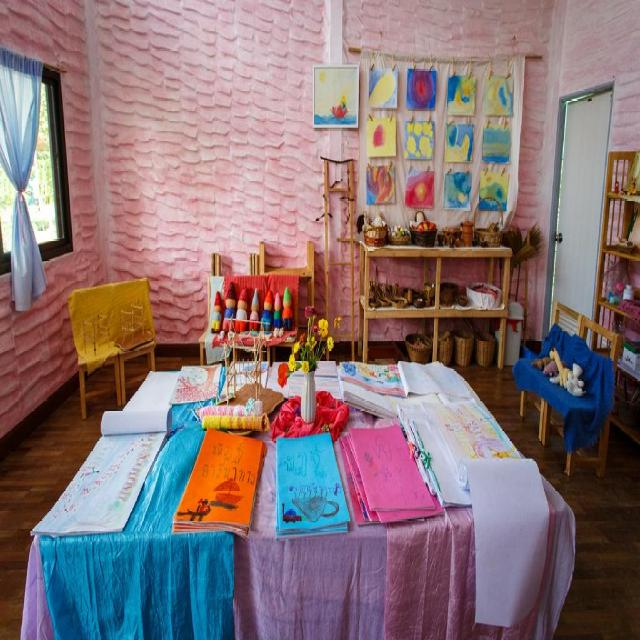Table: (62, 362, 550, 637)
